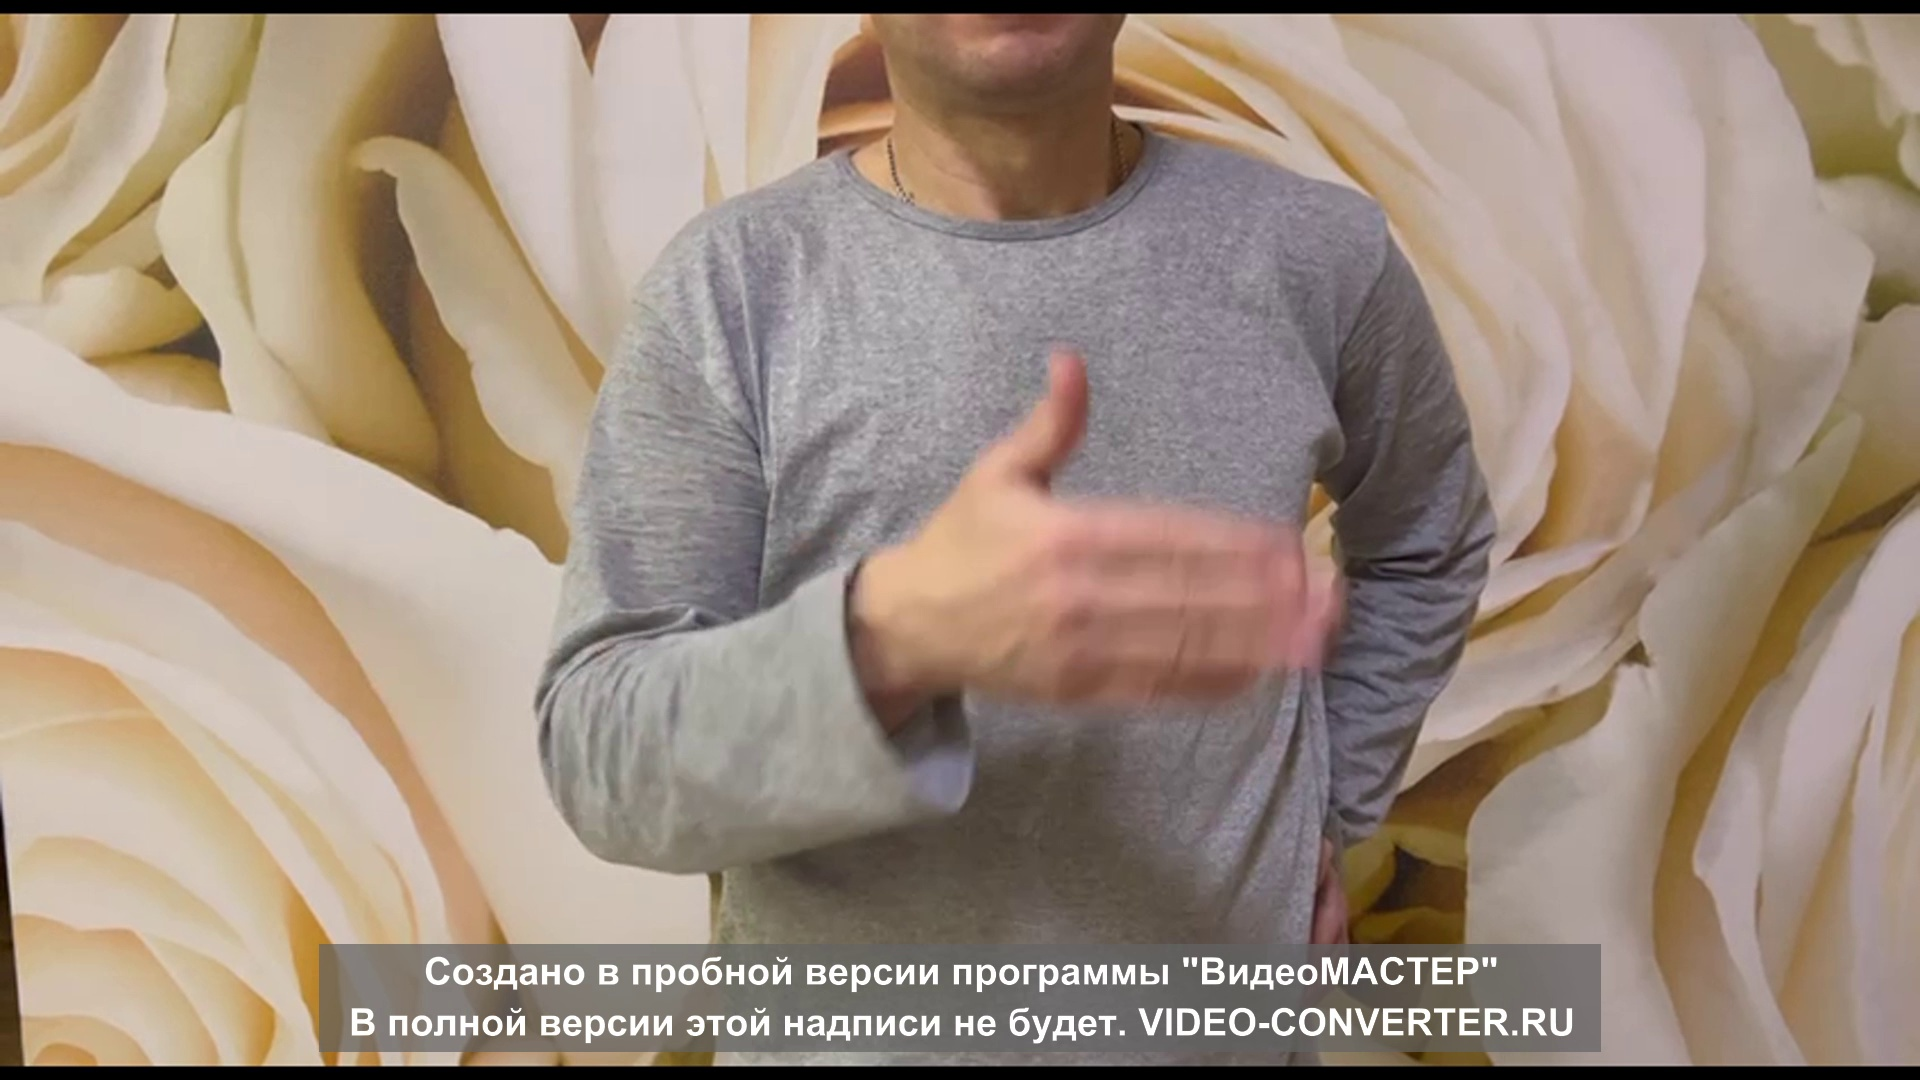Кисть: (915, 352, 1342, 700)
